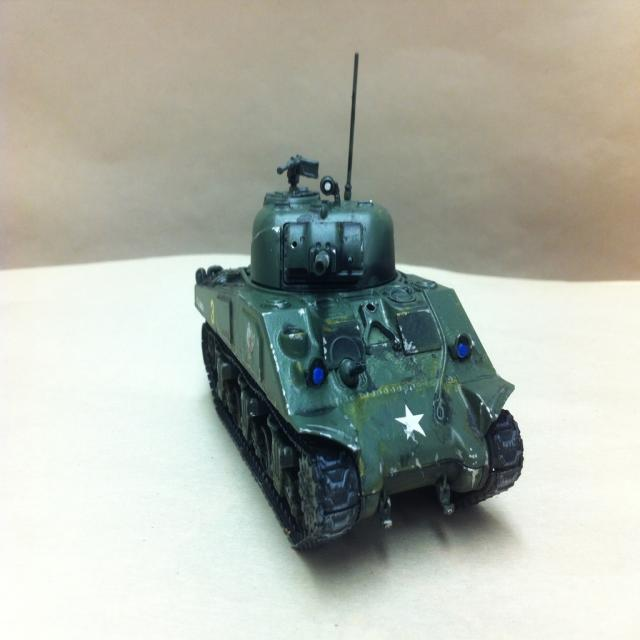tank: (195, 51, 524, 551)
